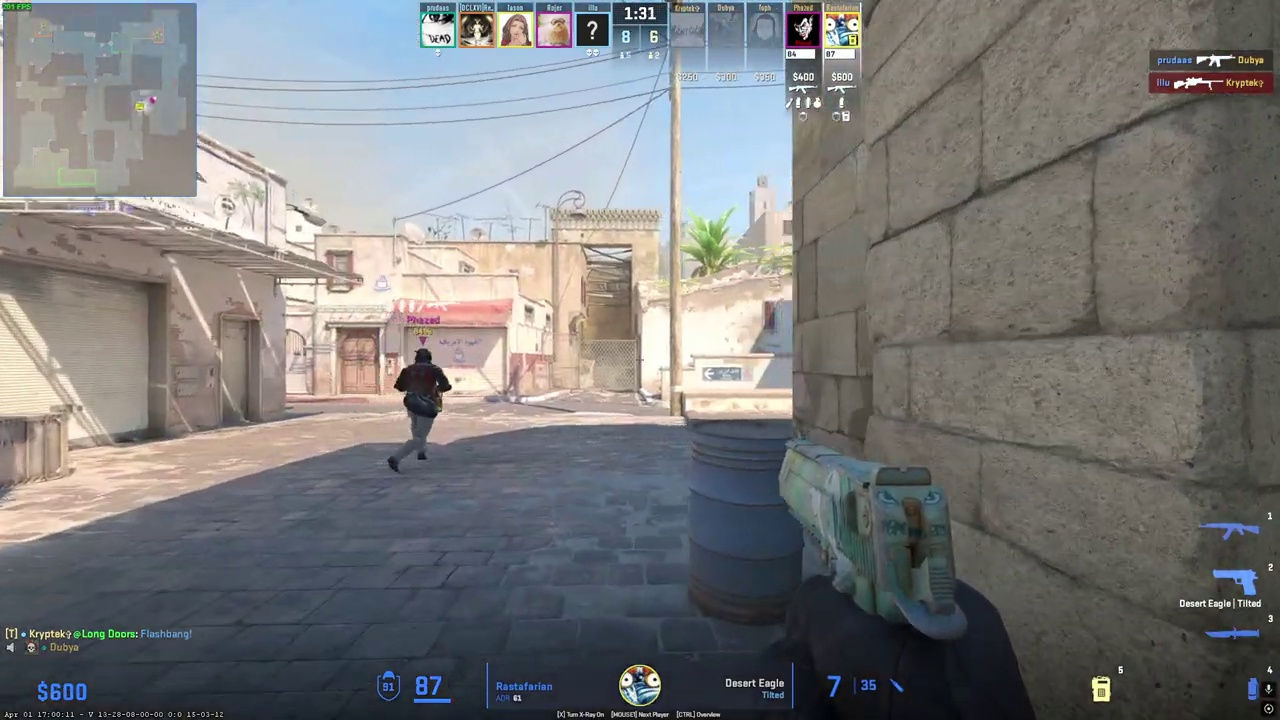Terrorist: (390, 347, 445, 473)
